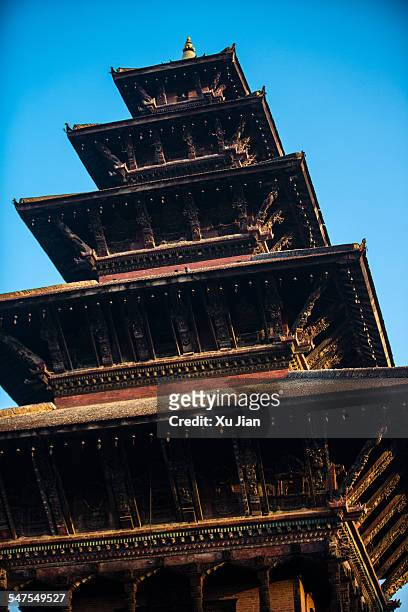nyathapola: (0, 3, 408, 506)
